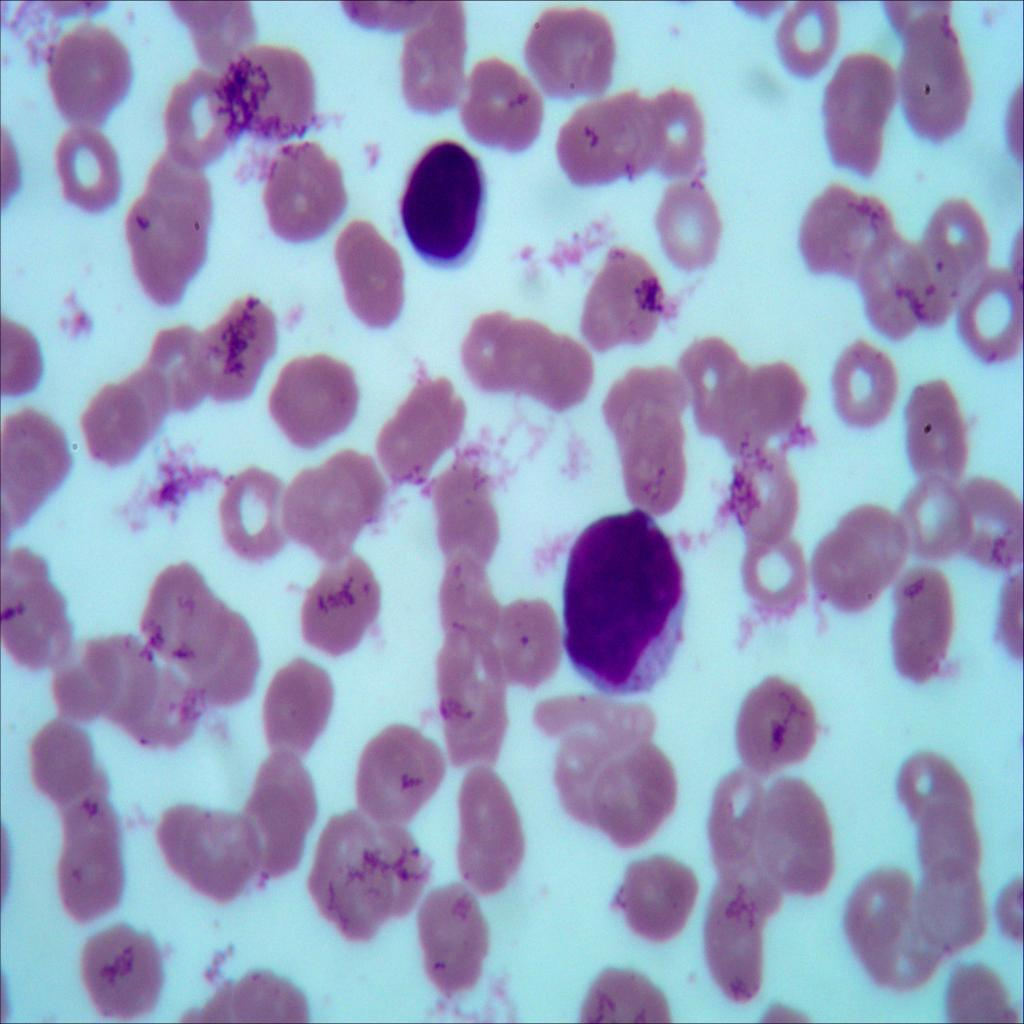Limfoblast: (552, 499, 688, 705), (386, 125, 493, 288)
